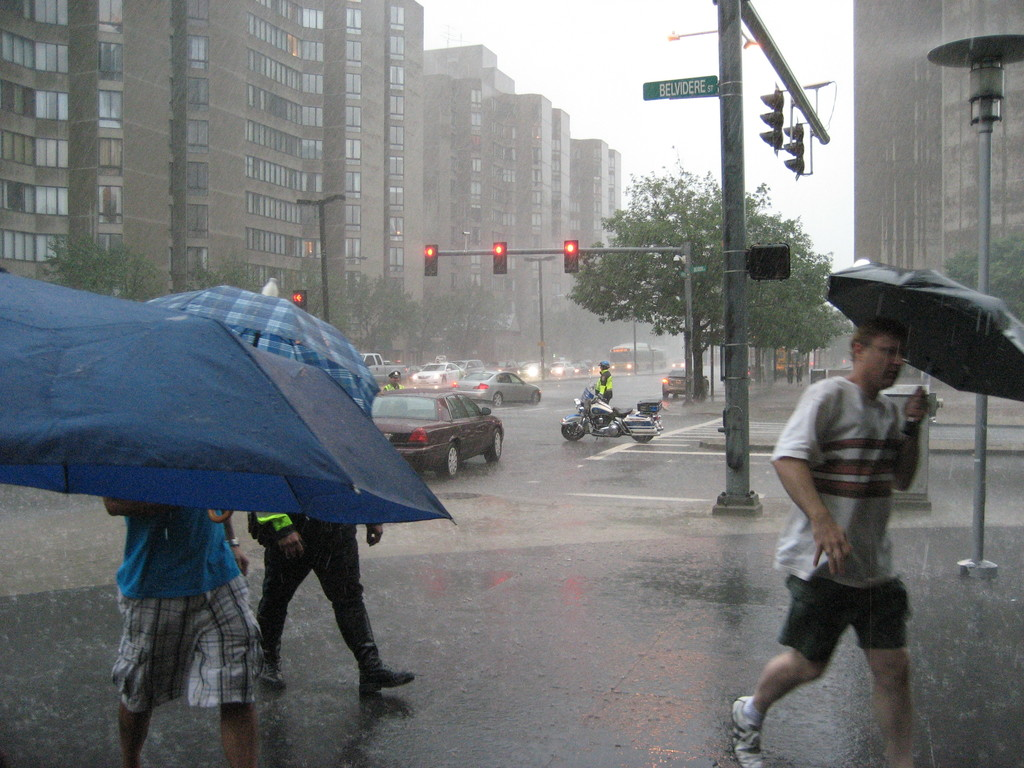Footwear: (730, 696, 763, 767), (358, 664, 414, 696), (259, 653, 285, 688)
